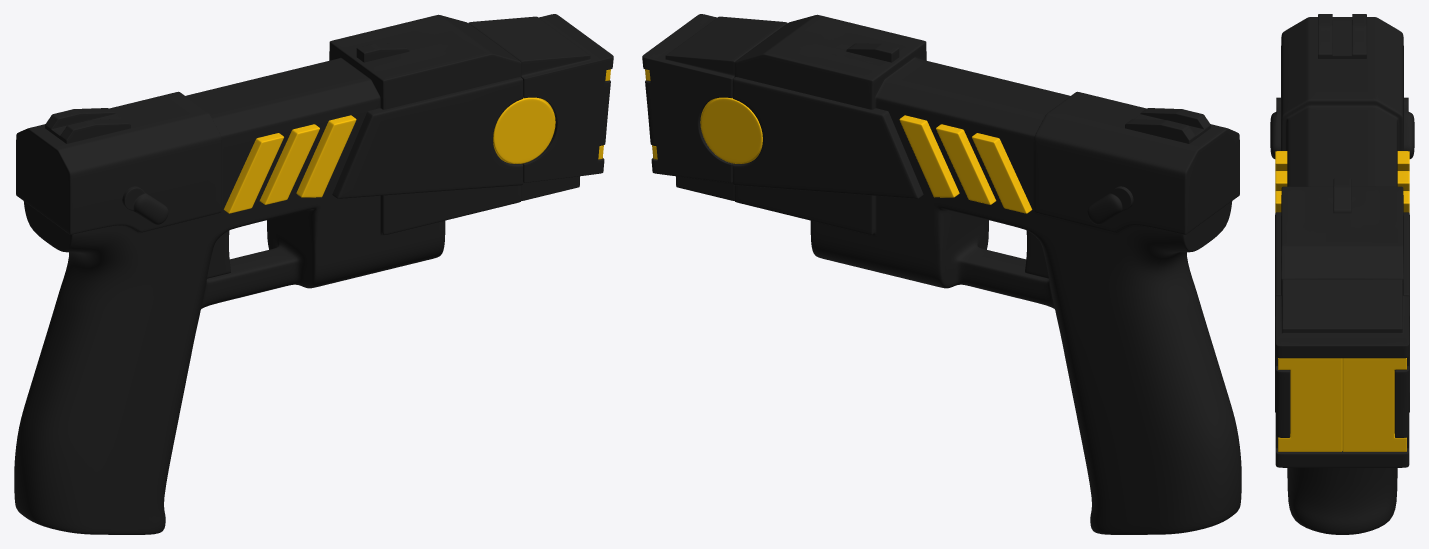
The model's file is 스턴건.fbx.
3 renders of one model, left to right at view 1: azimuth 30°, elevation 25°; view 2: azimuth 150°, elevation 25°; view 3: azimuth 270°, elevation 25°, orthographic. The views are drawn at different scales.
Parts seen in each view (by area): view 1: 스턴건; view 2: 스턴건; view 3: 스턴건.
Boxes of the visible parts, box(x1,y1,x2,y2) form: 스턴건: box(14, 14, 613, 534); 스턴건: box(642, 14, 1241, 534); 스턴건: box(1270, 14, 1414, 534).
Bounding box in the file's own units: 2045 × 1450 × 404.
